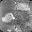people: (1, 12, 15, 23)
